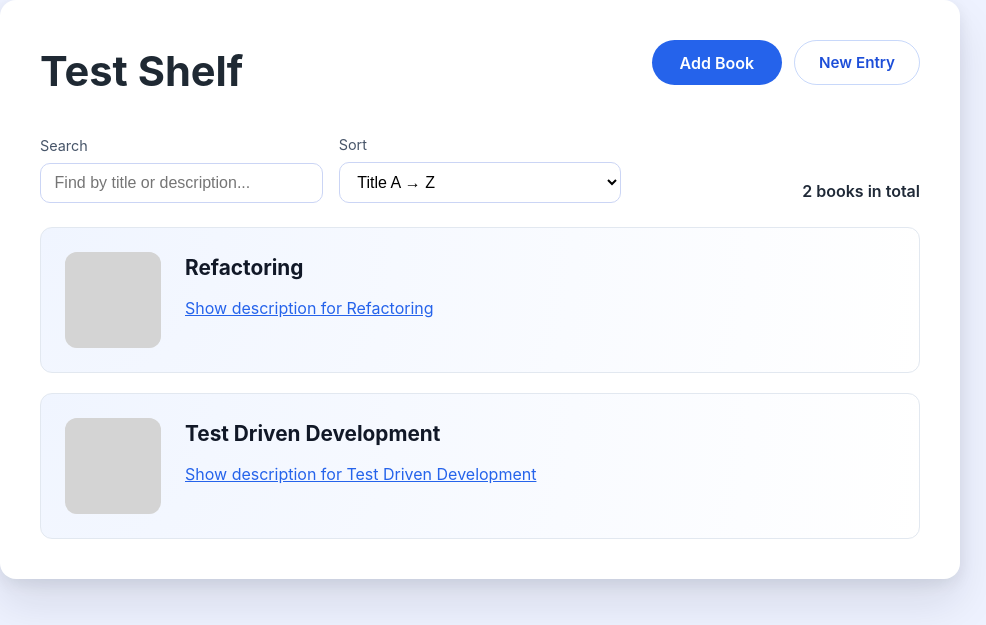
it: BookList › filters books based on the search input
Type "refactoring" into the search field labelled "Search" at (181, 183), box [40,163,323,203]
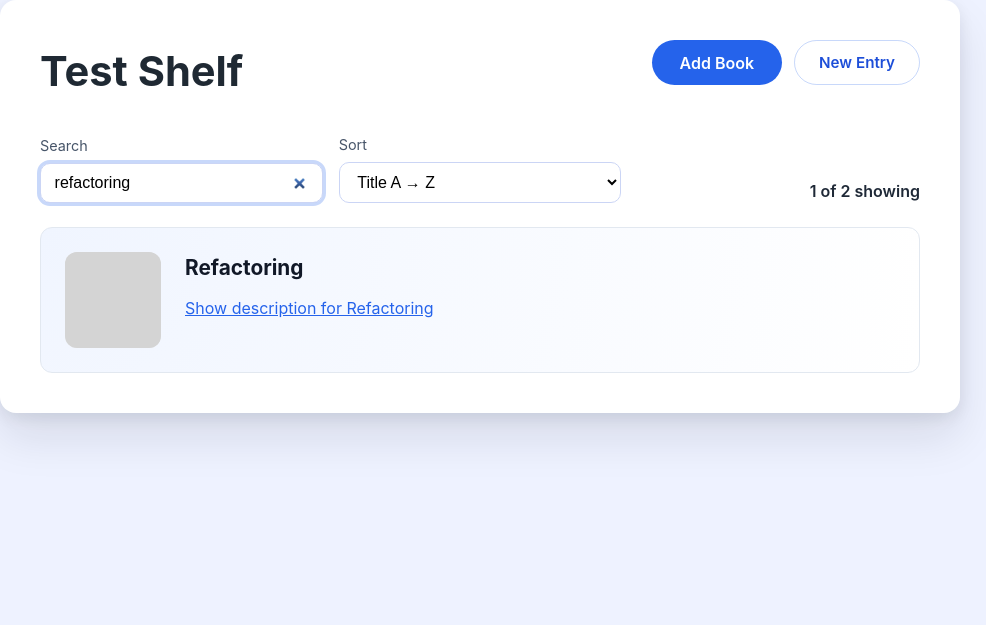
Expected: the heading "Refactoring" is shown, [185,255,303,280]
Expected: the heading "Test Driven Development" is gone
